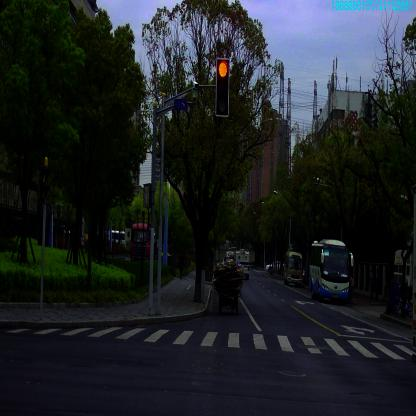traffic-light: (216, 59, 229, 117)
